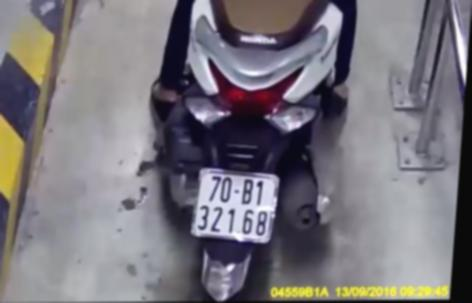License_Plate: (181, 163, 286, 250)
